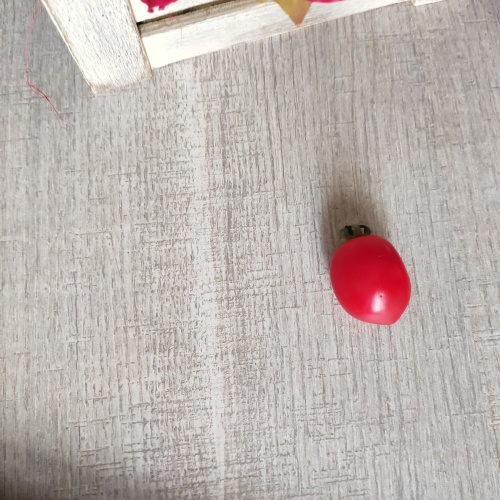pomodoro: (323, 223, 423, 333)
